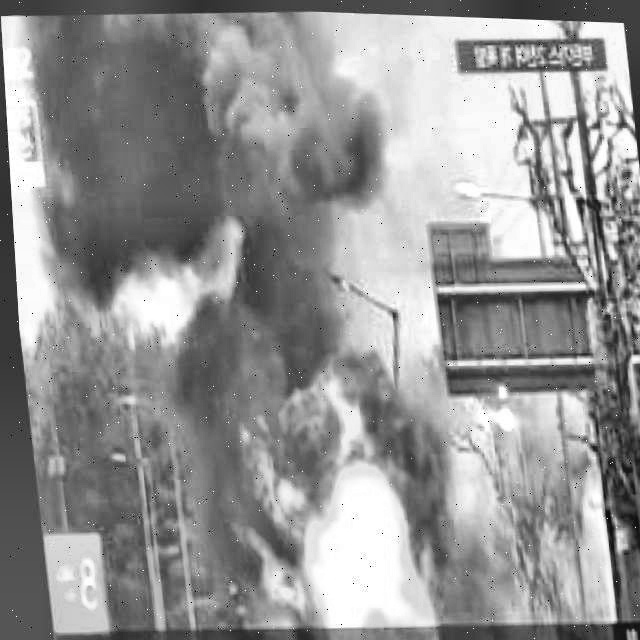Fire: (217, 396, 444, 640)
Smoke: (27, 1, 401, 355)
